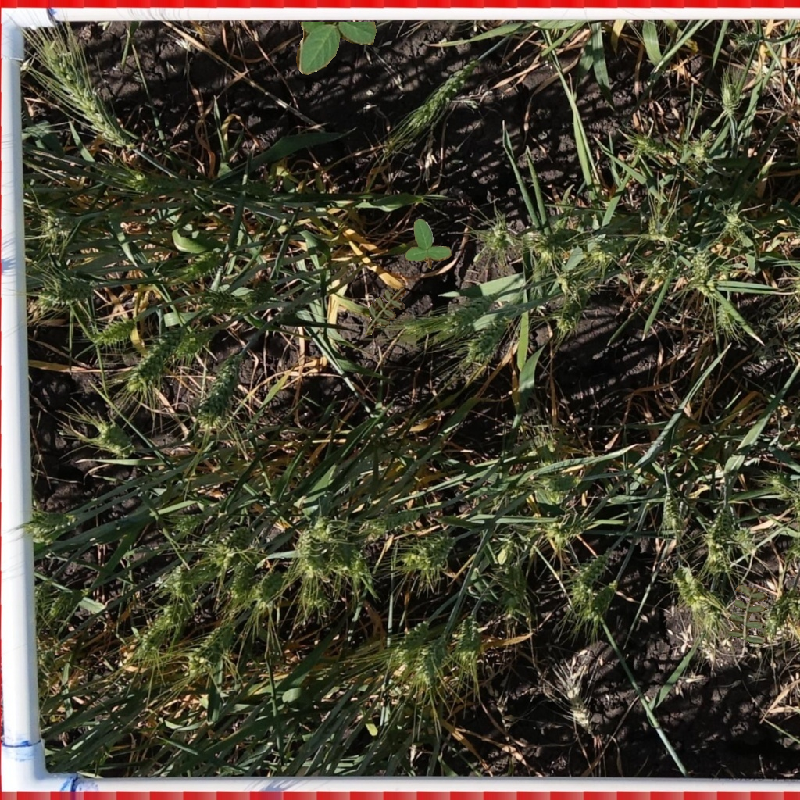spikelet: (41, 41, 130, 149), (406, 61, 472, 131), (124, 330, 180, 393), (194, 353, 243, 424), (184, 623, 235, 675), (703, 501, 738, 569), (466, 314, 512, 365), (404, 528, 456, 572), (36, 274, 95, 308), (551, 283, 591, 332), (25, 507, 77, 541), (527, 221, 576, 257), (391, 619, 431, 663), (444, 296, 492, 332), (209, 524, 255, 561), (571, 551, 613, 590), (584, 231, 630, 266), (414, 637, 448, 684), (364, 505, 419, 534), (139, 615, 173, 660), (670, 564, 704, 608), (452, 616, 483, 664), (38, 206, 78, 243), (326, 534, 362, 575), (173, 323, 214, 358), (658, 487, 687, 536), (583, 579, 618, 619), (544, 512, 589, 543), (253, 566, 285, 609), (95, 420, 134, 455), (185, 248, 226, 279), (684, 247, 713, 287), (480, 218, 511, 255), (95, 316, 134, 345), (766, 467, 797, 499), (733, 524, 760, 557), (171, 511, 205, 533), (713, 305, 734, 334)
weed: (296, 22, 377, 75), (728, 584, 768, 645), (405, 219, 452, 269), (365, 288, 406, 335)
